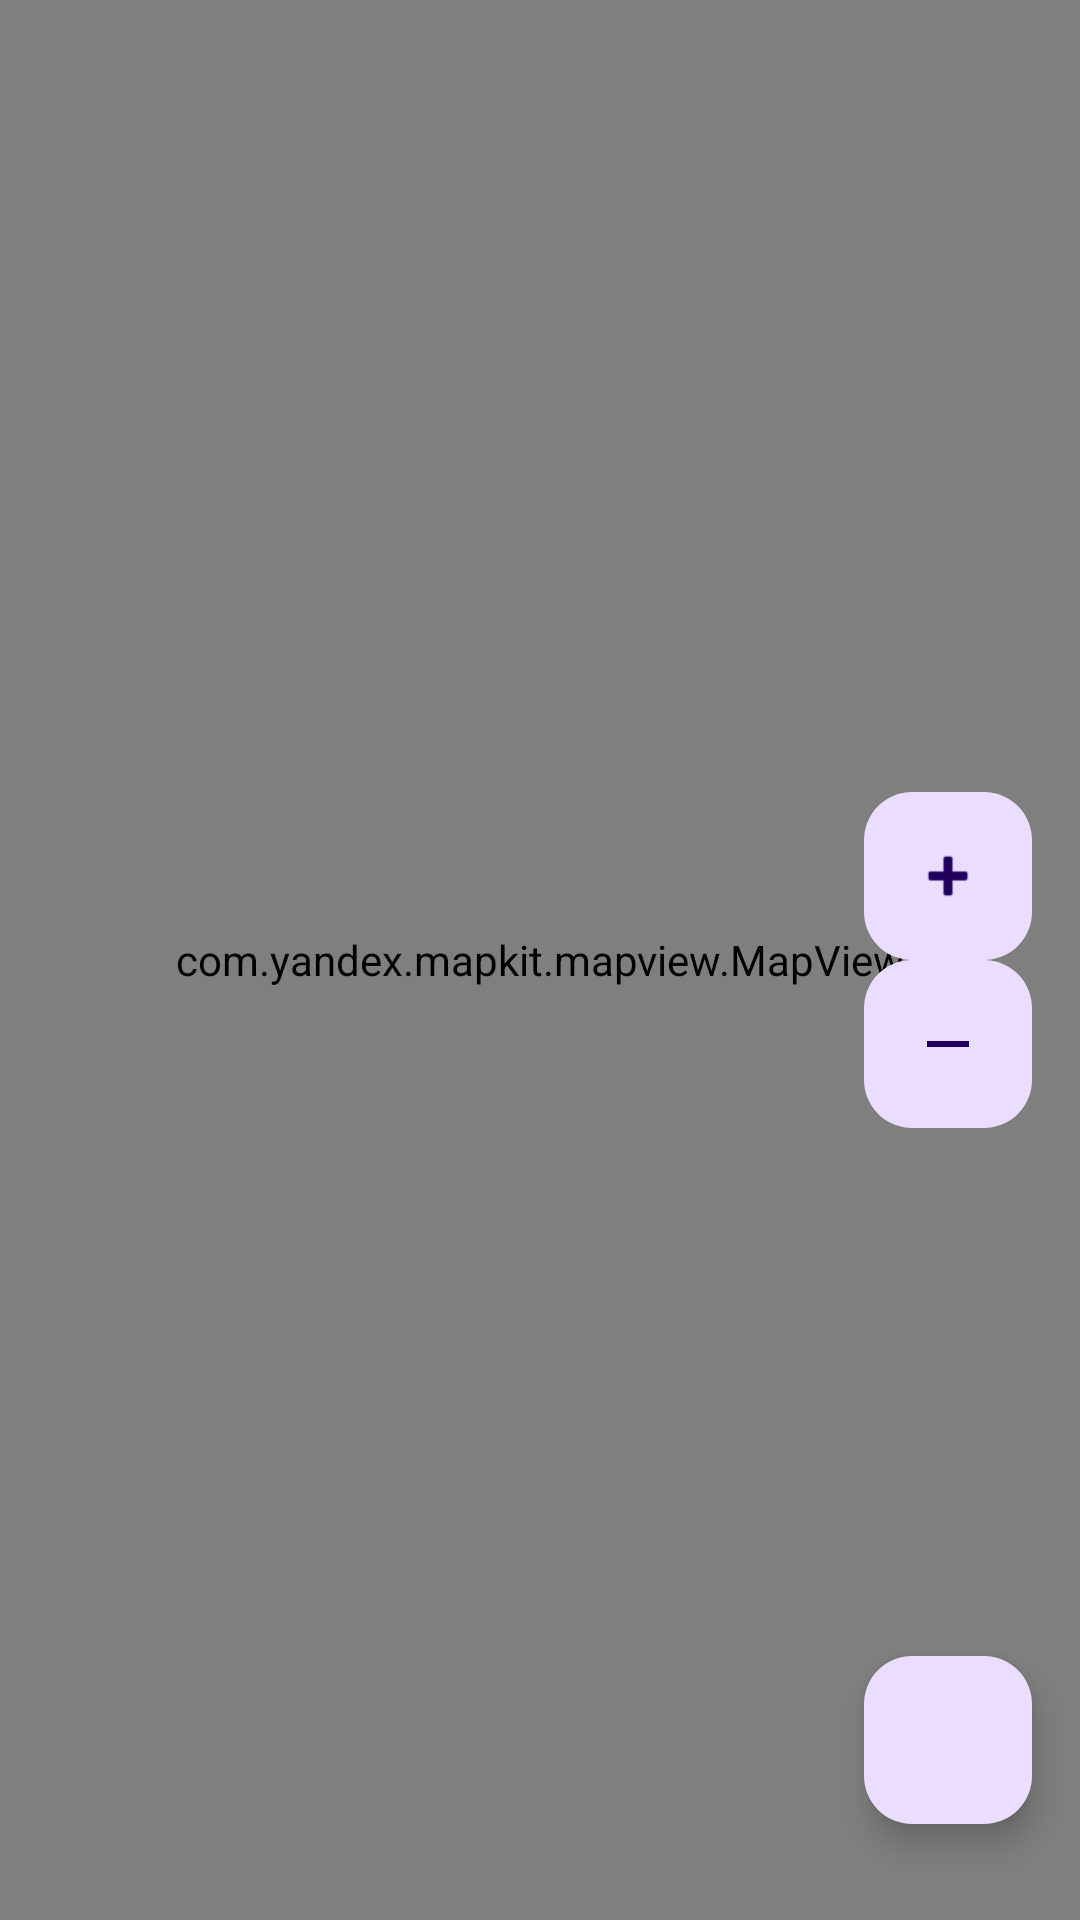

Where to tap for icons on this 1080 × 1920 app screen, as (x=x, y=y):
Zoom in: (x=948, y=876)
Zoom out: (x=948, y=1044)
